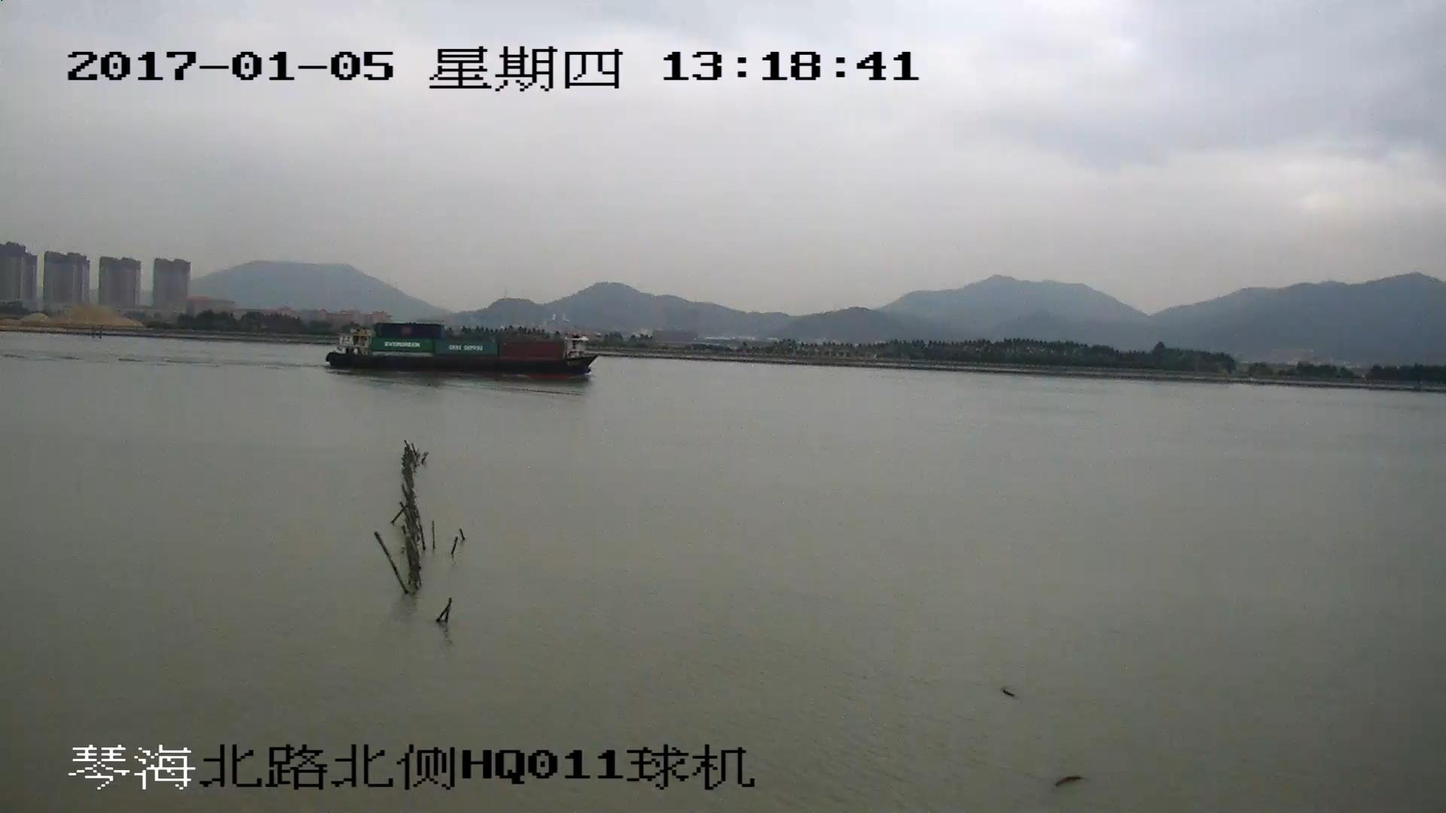container ship: (327, 321, 595, 381)
